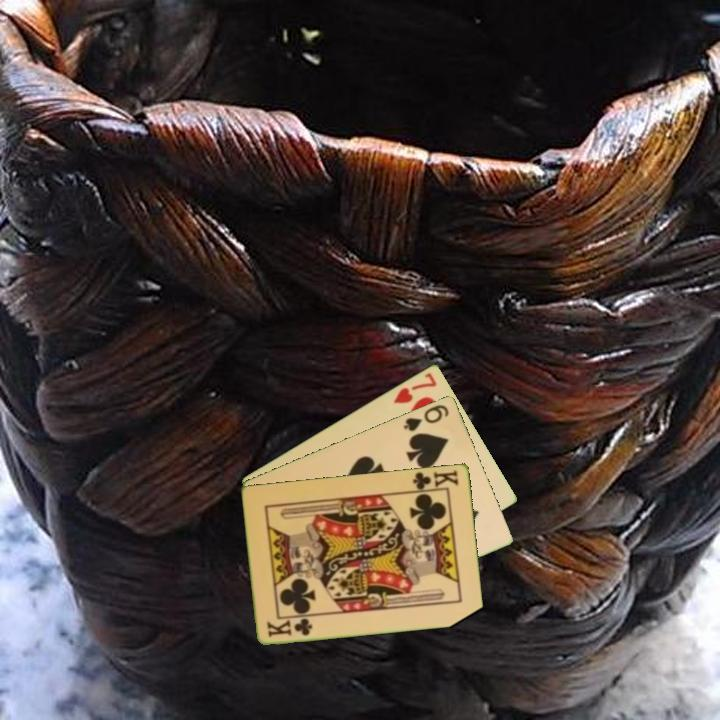6s: (400, 401, 452, 434)
7h: (390, 368, 440, 406)
Kc: (408, 466, 461, 494), (264, 615, 315, 640)
